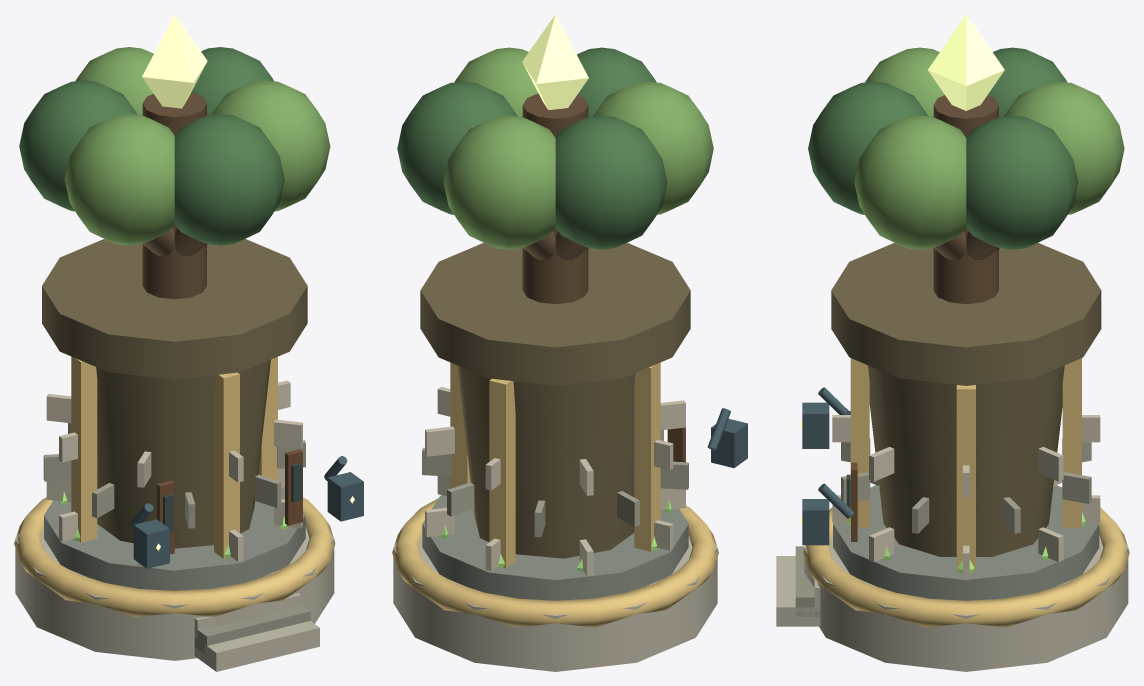
The model's file is tower-nature-1-base.glb.
The picture shows the model from 3 angles, left to right: view 1: azimuth 30°, elevation 25°; view 2: azimuth 150°, elevation 25°; view 3: azimuth 270°, elevation 25°; orthographic projection.
Visible parts, largest first — view 1: Turret, Foundation, nature-L1-base; view 2: Turret, Foundation, nature-L1-base; view 3: Turret, Foundation, nature-L1-base.
Part boxes in pixels (x1,y1,x2,y2): Turret: (19, 14, 330, 379); Foundation: (14, 356, 363, 671); nature-L1-base: (15, 487, 334, 660); Turret: (397, 14, 713, 385); Foundation: (392, 362, 747, 627); nature-L1-base: (393, 495, 717, 671); Turret: (808, 14, 1124, 385); Foundation: (776, 358, 1129, 627); nature-L1-base: (804, 485, 1128, 671).
Bounding box in the file's own units: 1.69 × 3.37 × 1.83.
